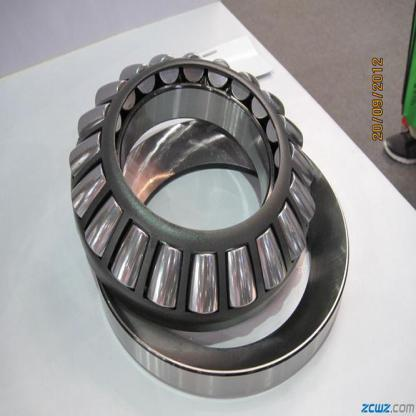FOD: (64, 48, 348, 402)
